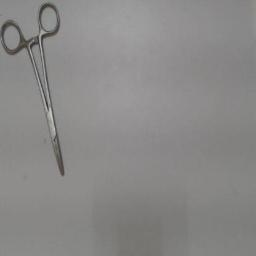Mayo Needle Holder: (0, 0, 70, 184)
